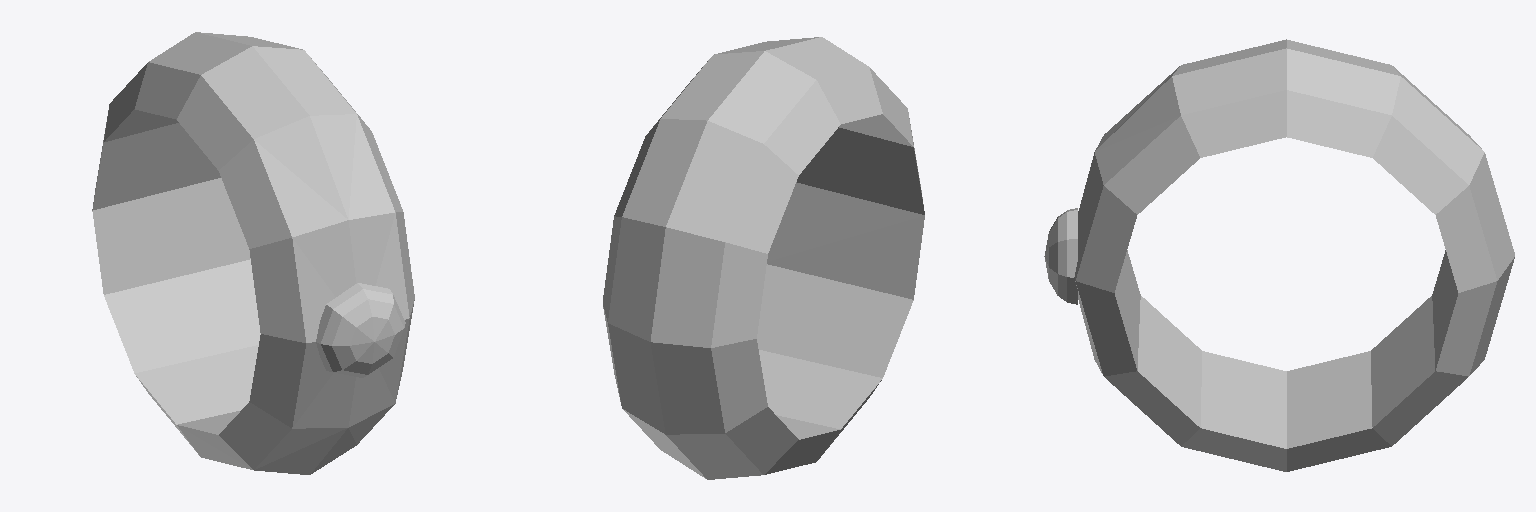
The model's file is ring.obj.
The picture shows the model from 3 angles: view 1: azimuth 30°, elevation 25°; view 2: azimuth 150°, elevation 25°; view 3: azimuth 270°, elevation 25°; orthographic projection.
Visible parts, largest first — view 1: vsn_mesh_0_b1_bngl01_mesh_0_b1_bngl01.001; view 2: vsn_mesh_0_b1_bngl01_mesh_0_b1_bngl01.001; view 3: vsn_mesh_0_b1_bngl01_mesh_0_b1_bngl01.001.
Boxes of the visible parts, x1=… form: vsn_mesh_0_b1_bngl01_mesh_0_b1_bngl01.001: x1=92, y1=32, x2=414, y2=474; vsn_mesh_0_b1_bngl01_mesh_0_b1_bngl01.001: x1=603, y1=37, x2=924, y2=479; vsn_mesh_0_b1_bngl01_mesh_0_b1_bngl01.001: x1=1044, y1=39, x2=1514, y2=471.
Bounding box in the file's own units: 0.0866 × 0.2252 × 0.2316.